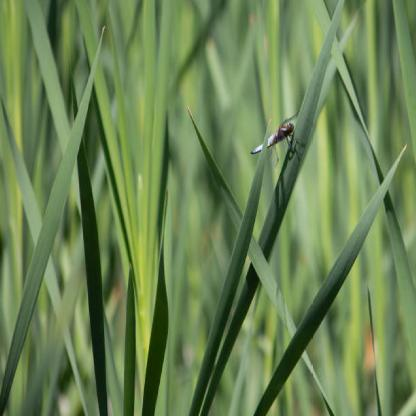sawfly: (248, 102, 308, 170)
